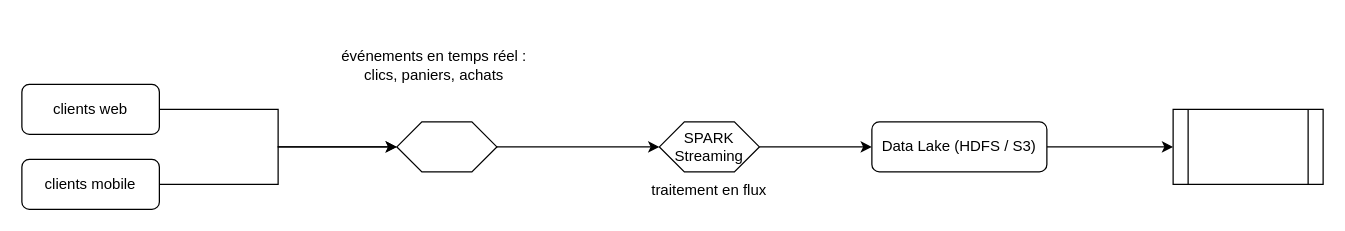
The diagram is 1345 pixels wide and 231 high, and some of its shapes have lost their labels. Each missing label, with the centre of its shape:
"KAFKA" goes at point (446, 146).
"Tableau de bord Marketing" goes at point (1247, 146).
